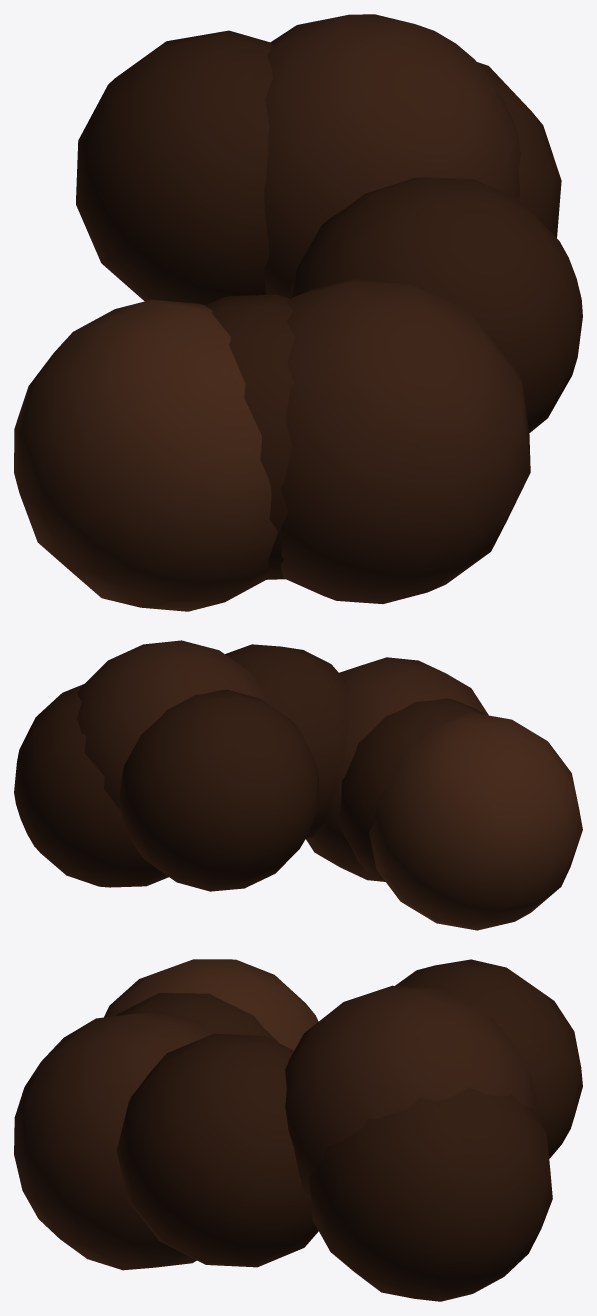
The model's file is topping-chocoball.glb.
The picture shows the model from 3 angles, top to bottom: view 1: azimuth 30°, elevation 25°; view 2: azimuth 150°, elevation 25°; view 3: azimuth 270°, elevation 25°; orthographic projection. The views are drawn at different scales.
Visible parts, largest first — view 1: topping-chocoball; view 2: topping-chocoball; view 3: topping-chocoball.
Part boxes in pixels (x1,y1,x2,y2): topping-chocoball: [14, 14, 582, 611]; topping-chocoball: [14, 640, 582, 930]; topping-chocoball: [14, 959, 582, 1301].
Size of the model in its own units: 0.0171 by 0.0102 by 0.0164.
